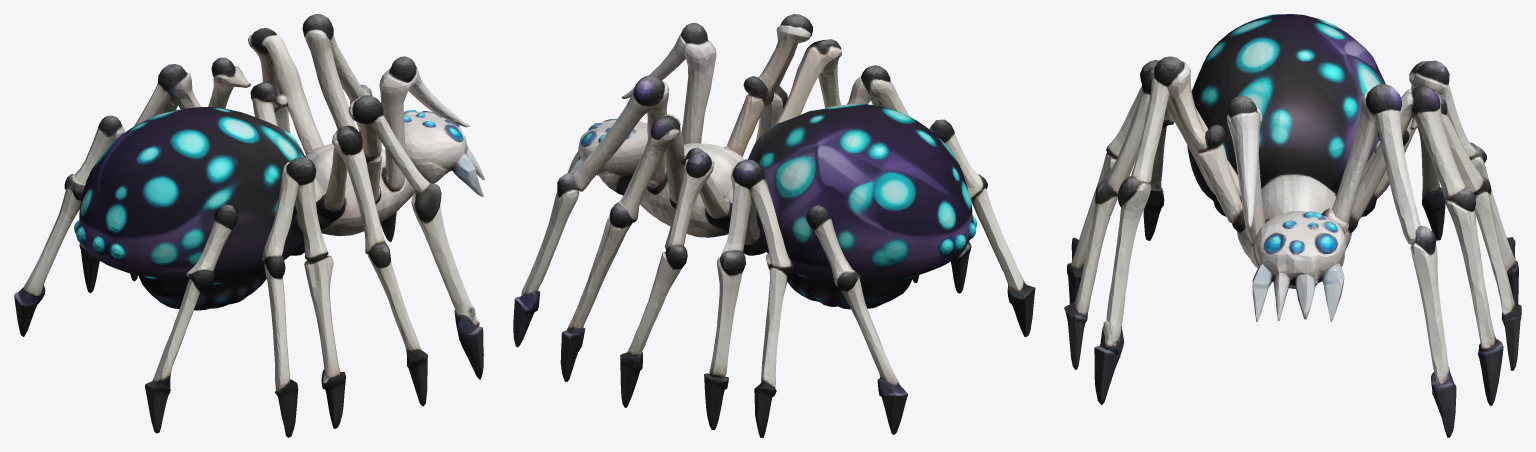
File: riftstalker.glb
The picture shows the model from 3 angles, left to right: view 1: azimuth 30°, elevation 25°; view 2: azimuth 150°, elevation 25°; view 3: azimuth 270°, elevation 25°; orthographic projection. The views are drawn at different scales.
Parts seen in each view (by area): view 1: world; view 2: world; view 3: world.
Boxes of the visible parts, x1=… form: world: x1=14, y1=14, x2=484, y2=437; world: x1=513, y1=14, x2=1035, y2=437; world: x1=1064, y1=14, x2=1521, y2=437.
Bounding box in the file's own units: 0.998 × 0.6775 × 0.9168.
1 material, 1 textured.
